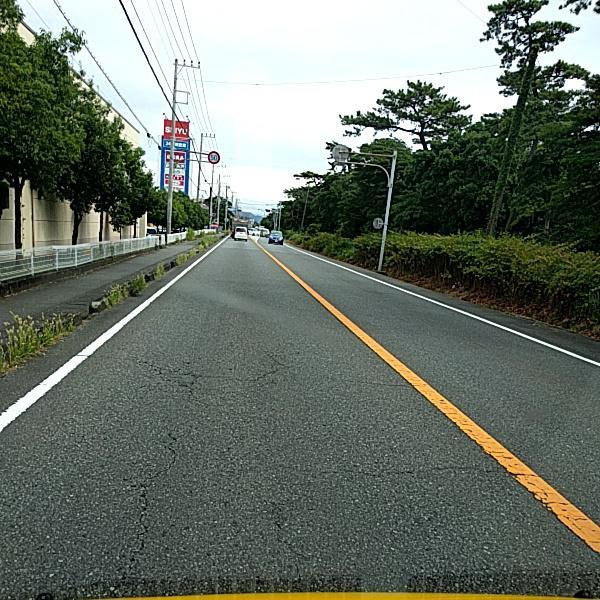D00: (118, 424, 175, 573)
D10: (93, 350, 281, 398), (306, 459, 515, 489), (351, 371, 417, 389)
D44: (396, 362, 599, 561)
